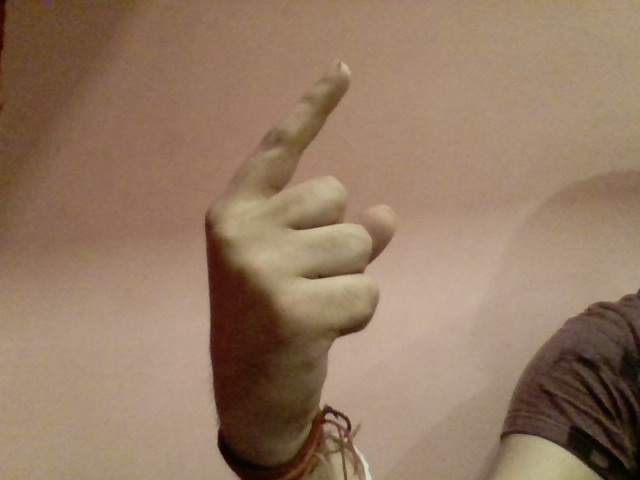z: (181, 46, 417, 415)
